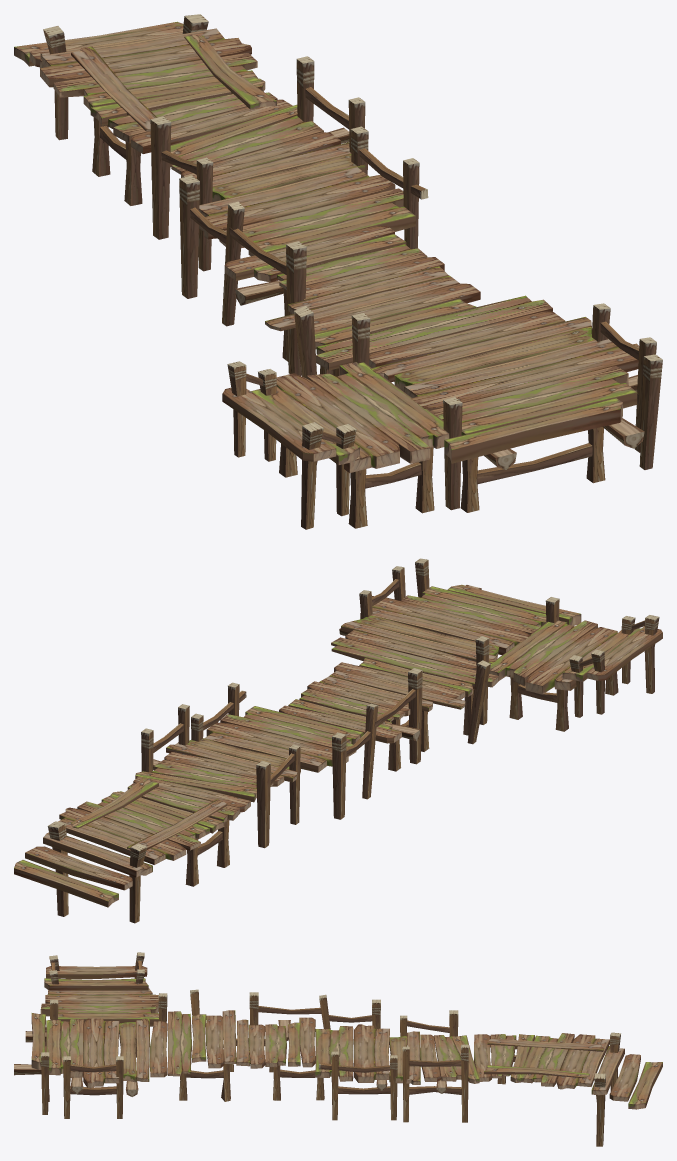
The model's file is Map_05_bridge01.FBX.
The picture shows the model from 3 angles, top to bottom: view 1: azimuth 30°, elevation 25°; view 2: azimuth 150°, elevation 25°; view 3: azimuth 270°, elevation 25°; orthographic projection. The views are drawn at different scales.
Visible parts, largest first — view 1: Map_05_bridge01; view 2: Map_05_bridge01; view 3: Map_05_bridge01.
Part boxes in pixels (left/top/right/bottom): Map_05_bridge01: left=14, top=14, right=662, bottom=529; Map_05_bridge01: left=14, top=558, right=662, bottom=923; Map_05_bridge01: left=14, top=952, right=662, bottom=1146.
Size of the model in its own units: 906 by 2226 by 374.
Materials: 1 (1 with a texture image).
